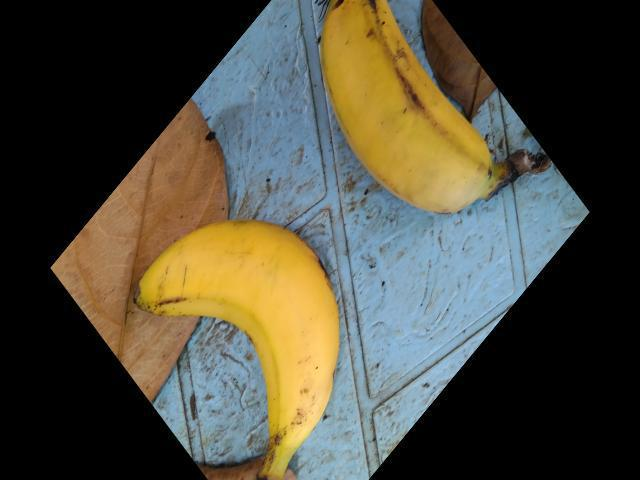freshripe: (148, 209, 372, 479)
ripe: (309, 0, 486, 208)
